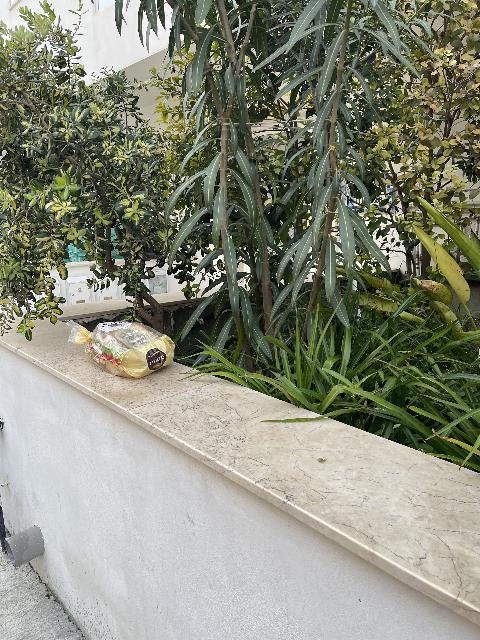Other: (86, 322, 175, 379), (65, 320, 91, 344)
